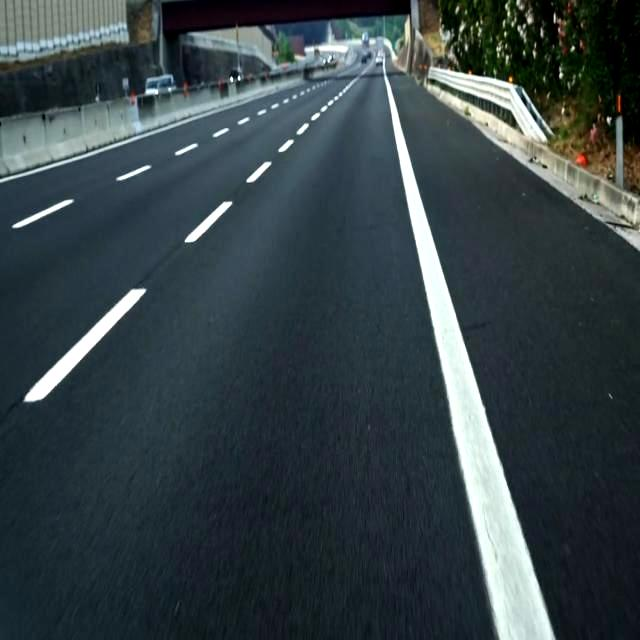lane: (383, 65, 554, 639), (24, 289, 144, 402), (185, 201, 232, 242), (11, 199, 74, 228), (246, 161, 271, 183), (116, 166, 151, 181)
road: (0, 68, 496, 639), (391, 75, 639, 639)
